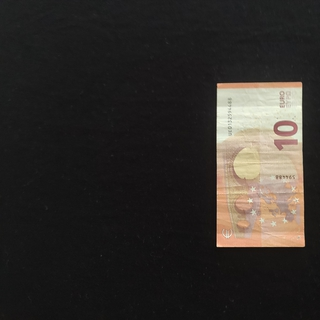10EUROBack: (215, 81, 305, 248)
